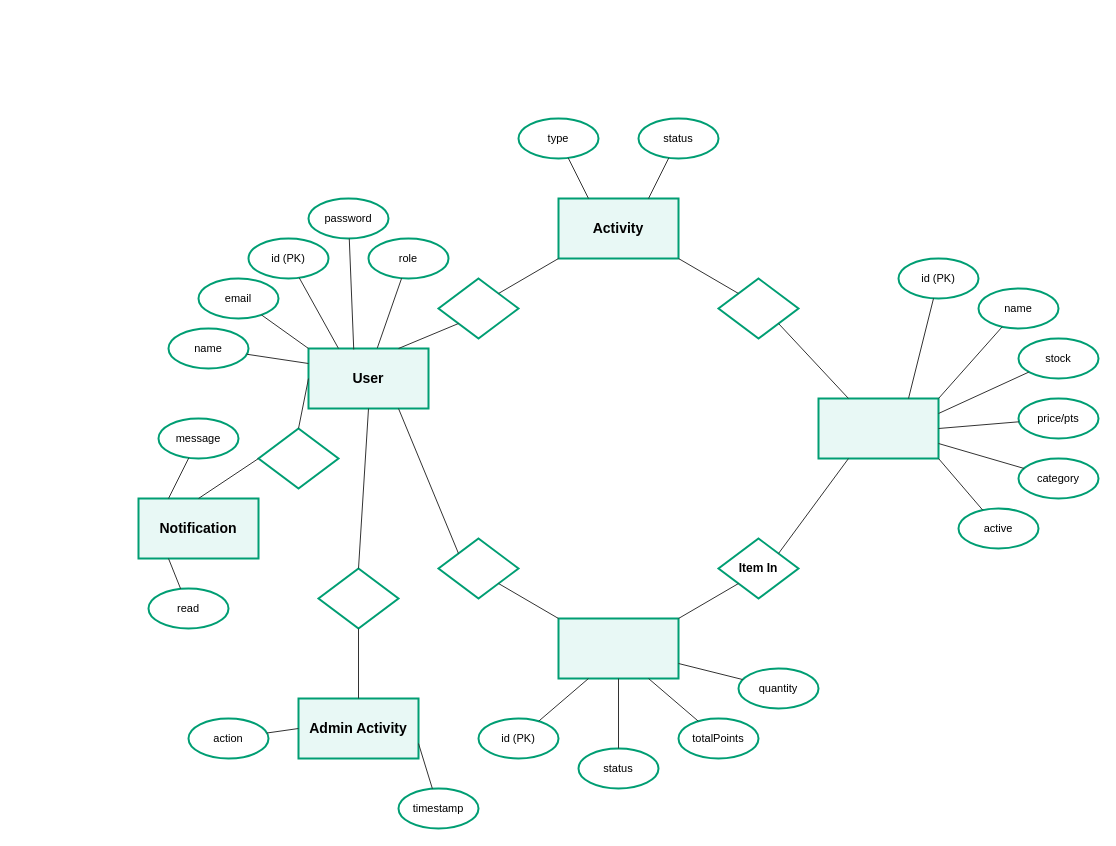
Image size: 1116x846. Some labels were removed from this diagram. The centre of each missing label's shape, as x and y in pixels:
Logs: [358,598]
Makes: [478,568]
Performs: [478,308]
Product: [878,428]
Receives: [298,458]
Ref. In: [758,308]
Transaction: [618,648]
